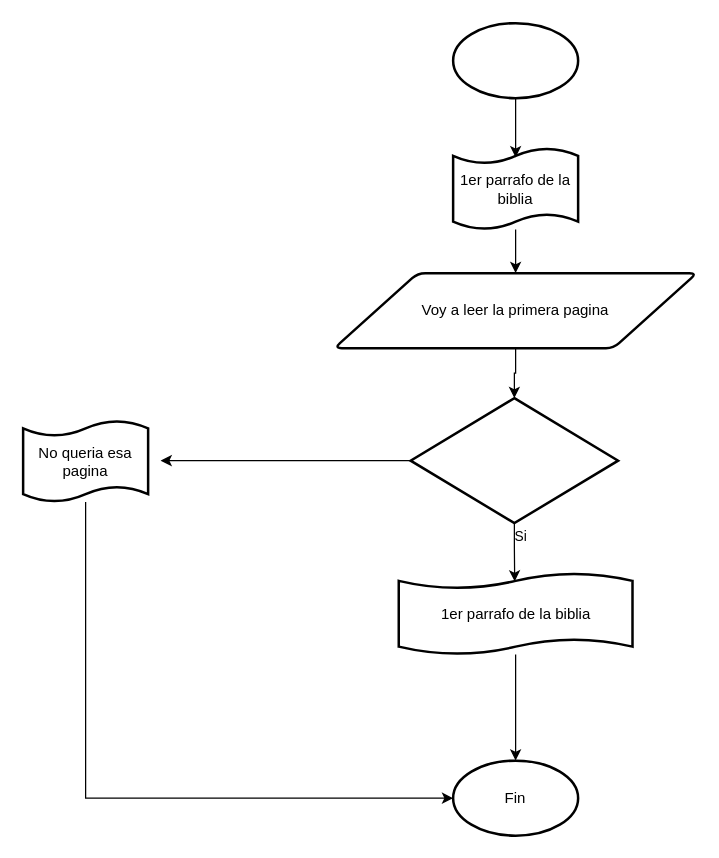
This 719x858 diagram has some shape labels left out. Here are the shapes that lost their labels. From the top down, the box of each, then its label:
(451, 21, 579, 99): Start
(409, 396, 619, 524): Si pagina==parrafo
